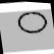no answer: (14, 6, 52, 41)
